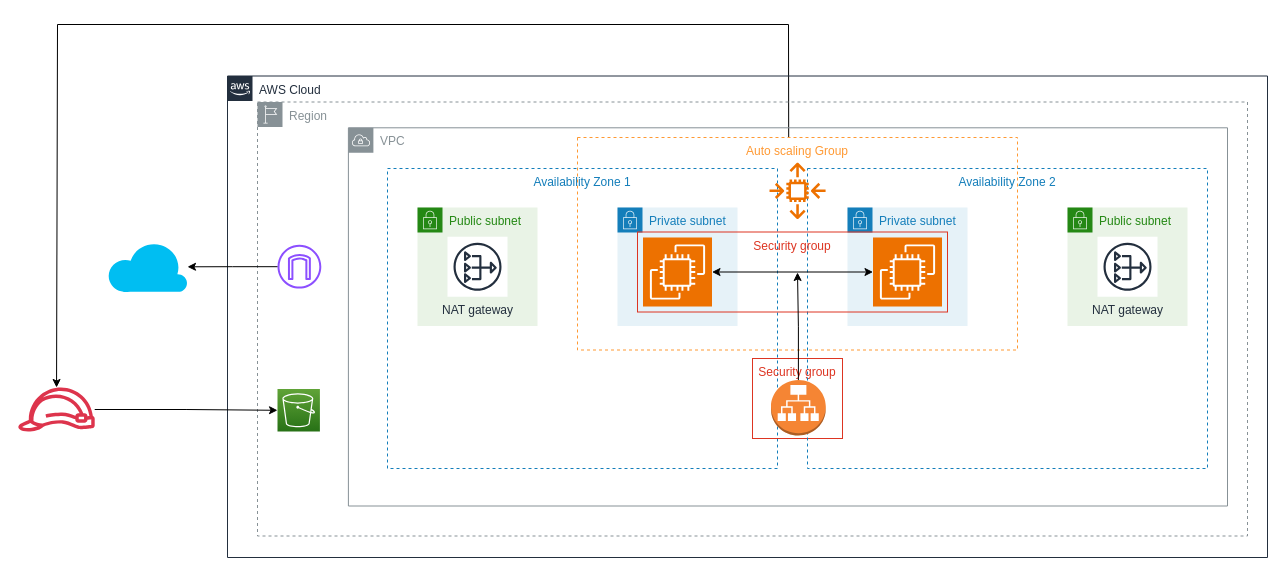
Some shapes in this 1285 by 575 pixel diagram are drawn without their labels. The centre of each missing label's shape, as x and y in pixels:
Amazon S3: the point at 298,410
Internet Gateway: the point at 299,266
